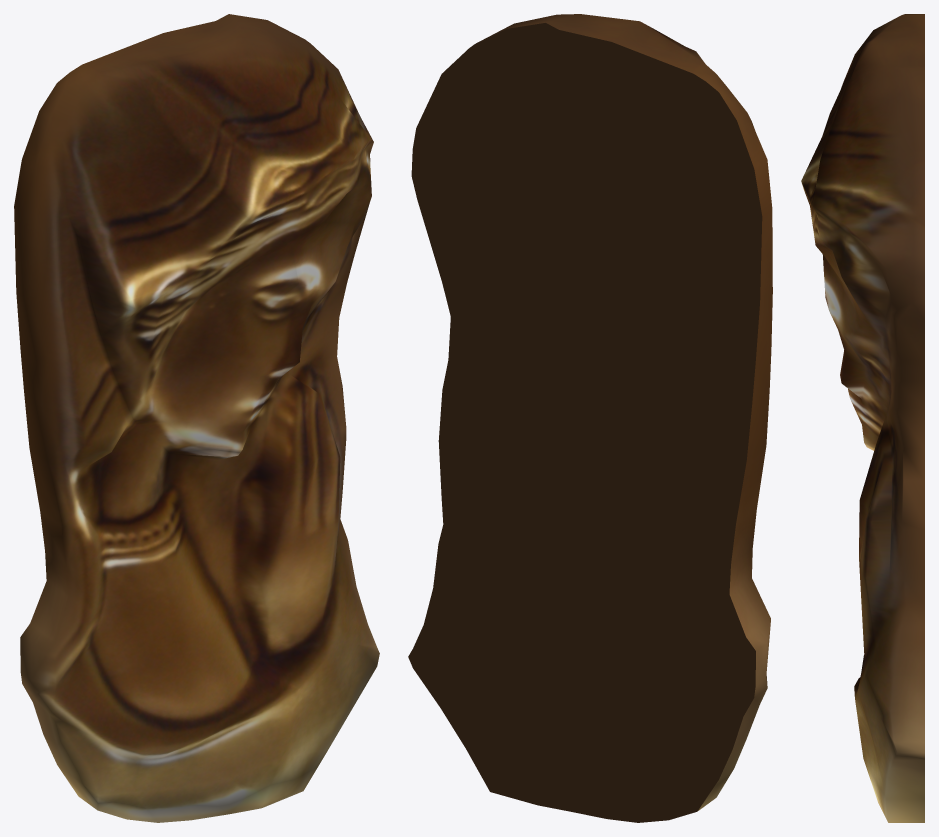
The model's file is Art1343D.fbx.
3 views of the same model, side by side, from view 1: azimuth 30°, elevation 25°; view 2: azimuth 150°, elevation 25°; view 3: azimuth 270°, elevation 25° (orthographic). The views are drawn at different scales.
Visible parts, largest first — view 1: Mesh_2; view 2: Mesh_2; view 3: Mesh_2.
Part boxes in pixels (x1,y1,x2,y2): Mesh_2: [14, 14, 379, 822]; Mesh_2: [408, 14, 772, 822]; Mesh_2: [801, 14, 924, 822].
Size of the model in its own units: 6.81 by 14.42 by 2.21.
1 material, 1 textured.
